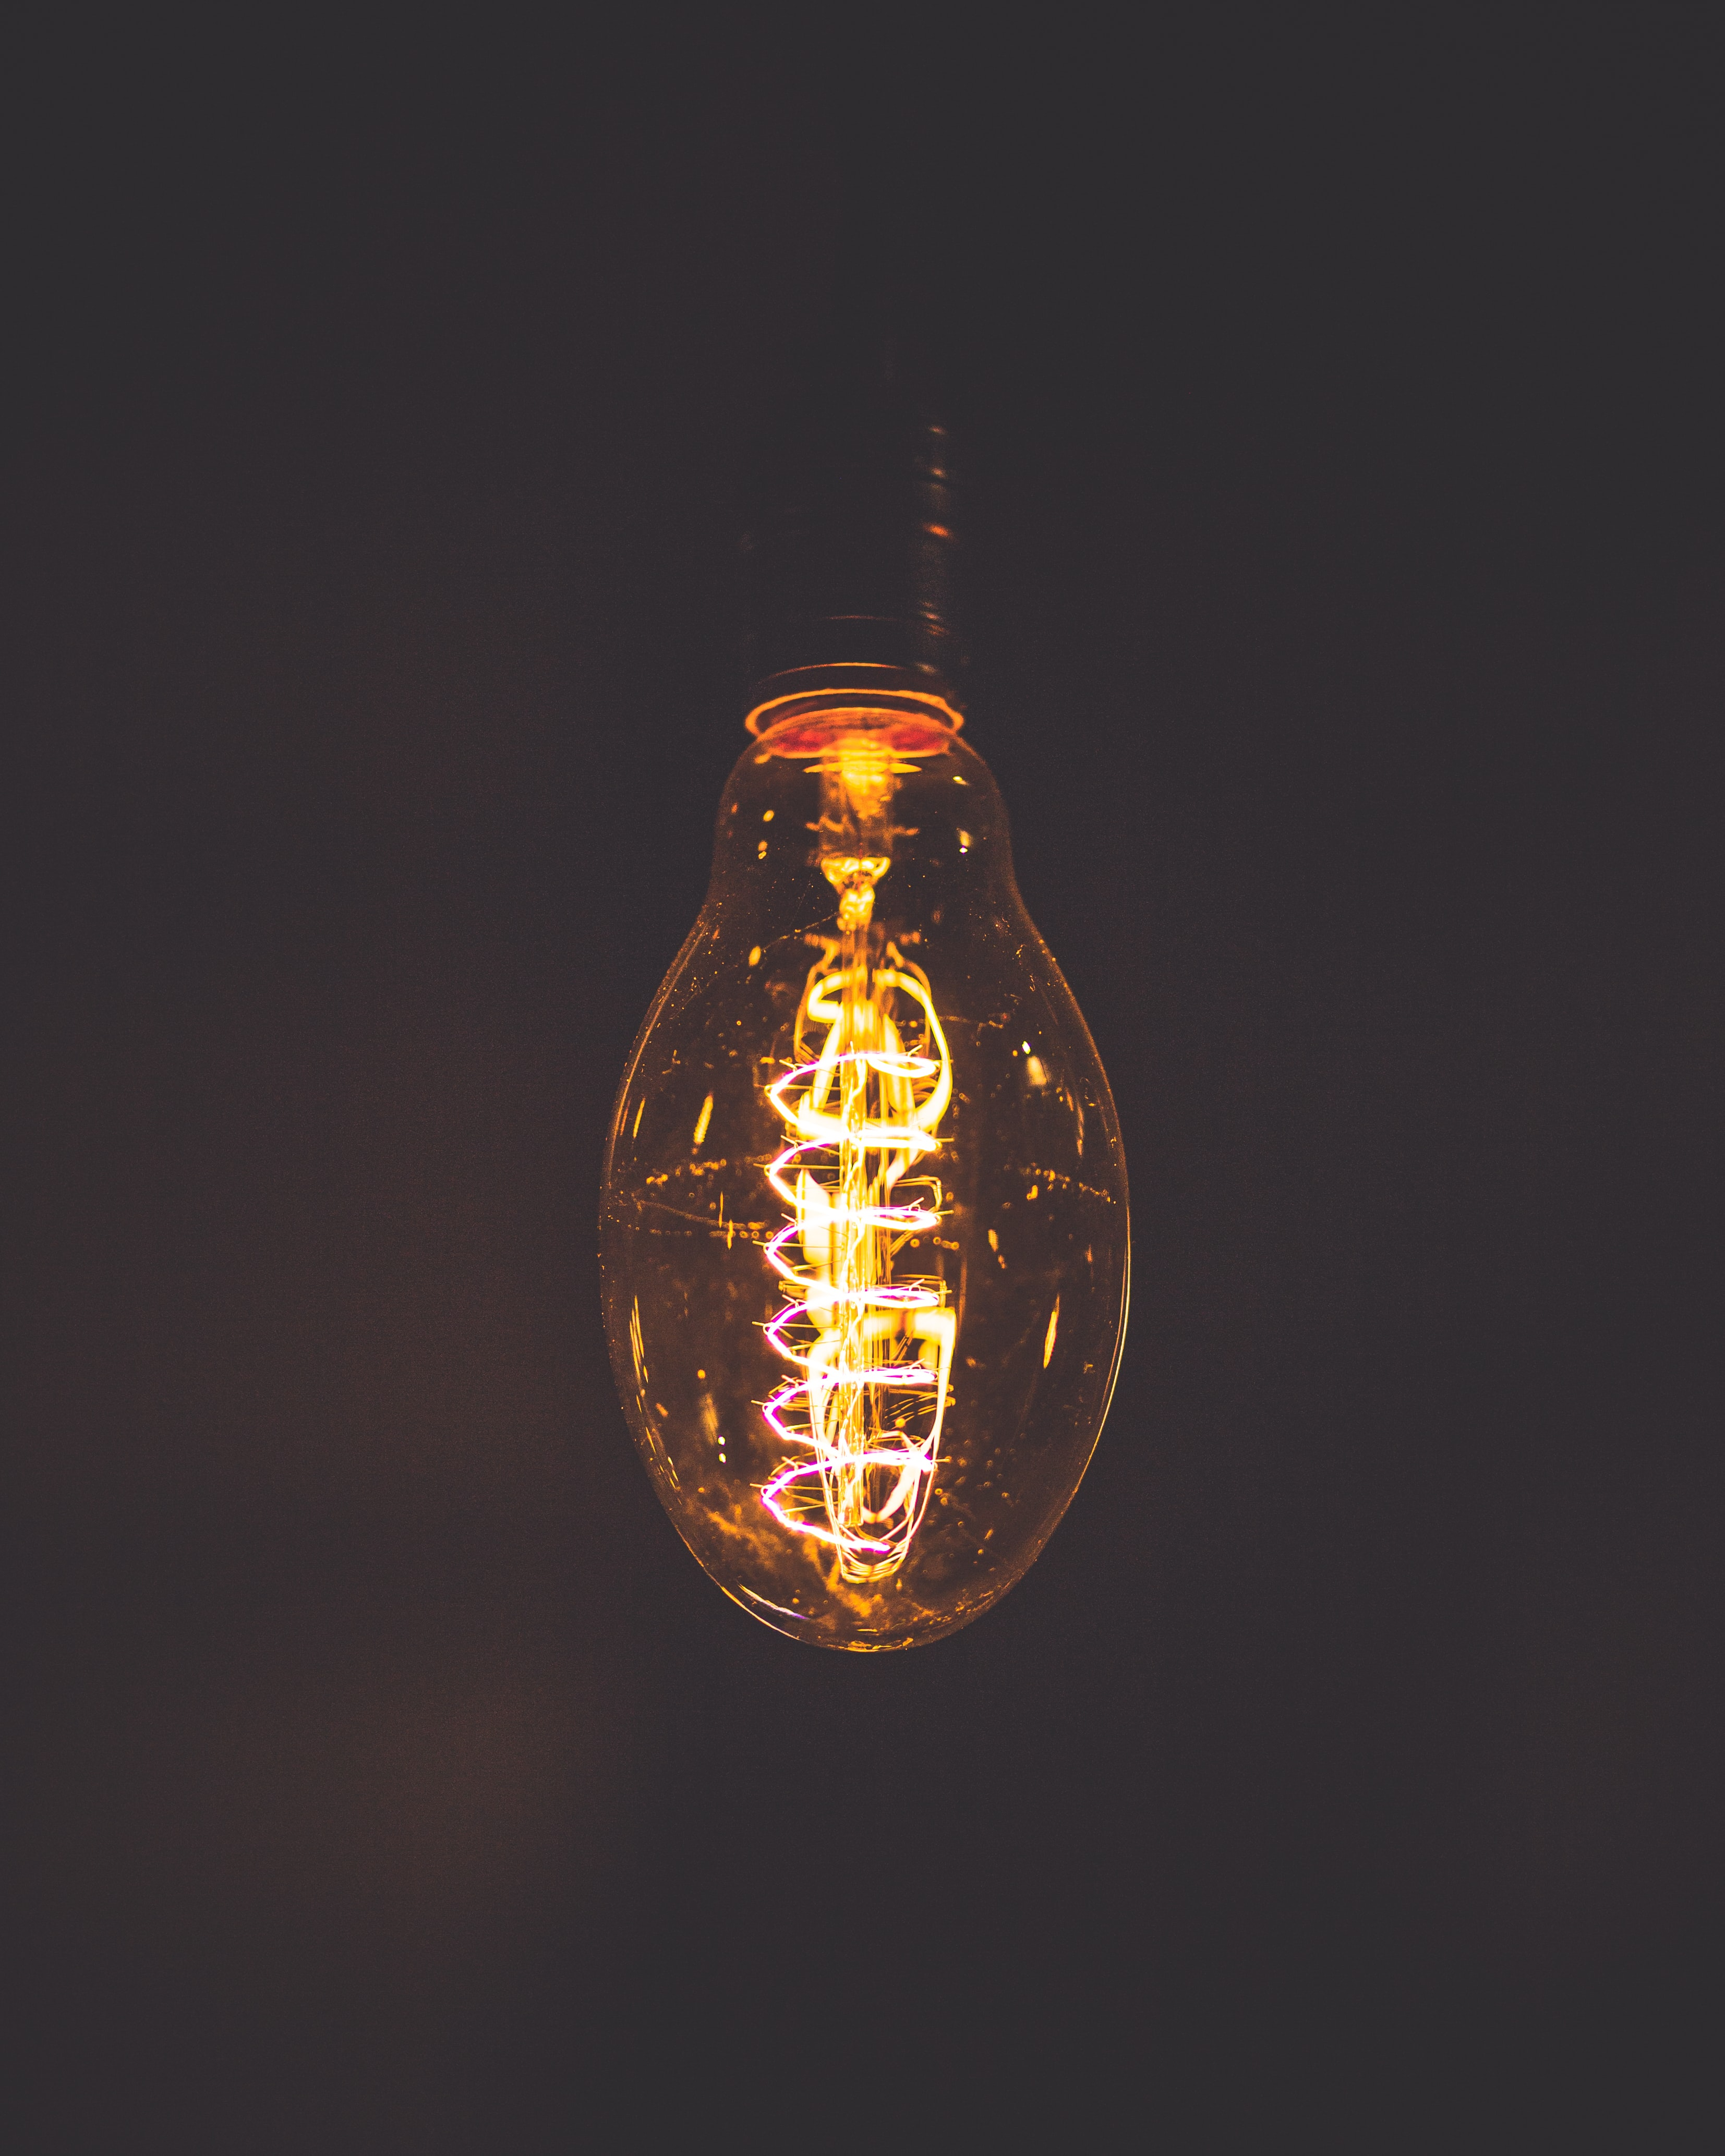bulb: (537, 257, 1292, 1681)
